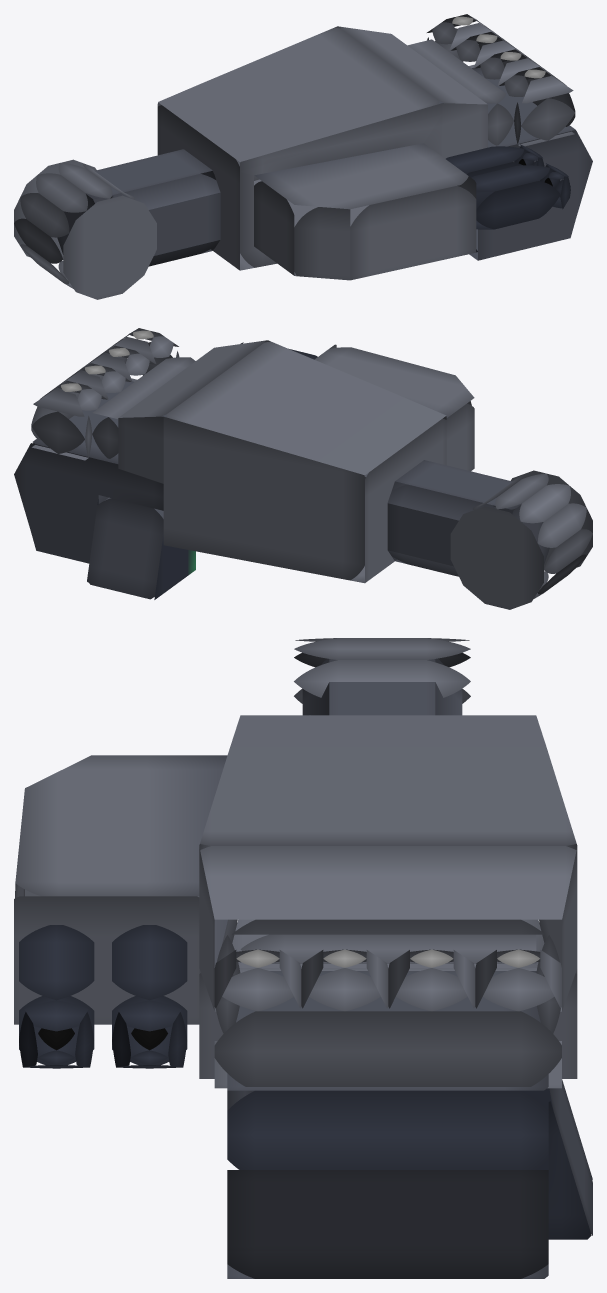
File: Charge Right Arm.obj
3 views of the same model, one above another, from view 1: azimuth 30°, elevation 25°; view 2: azimuth 150°, elevation 25°; view 3: azimuth 270°, elevation 25° (orthographic). The views are drawn at different scales.
Visible parts, largest first — view 1: Forearm, cylinder, cuboid, Arm; view 2: Forearm, cuboid, cylinder, Arm; view 3: Forearm, cuboid, cylinder, Arm.
Part boxes in pixels (x1=…): Forearm: x1=157, y1=14, x2=575, y2=280; cylinder: x1=14, y1=159, x2=156, y2=299; cuboid: x1=439, y1=67, x2=592, y2=260; Arm: x1=57, y1=149, x2=220, y2=266; Forearm: x1=31, y1=328, x2=474, y2=583; cuboid: x1=14, y1=342, x2=317, y2=599; cylinder: x1=450, y1=470, x2=592, y2=609; Arm: x1=387, y1=460, x2=549, y2=576; Forearm: x1=14, y1=715, x2=577, y2=1088; cuboid: x1=19, y1=925, x2=592, y2=1278; cylinder: x1=294, y1=638, x2=470, y2=703; Arm: x1=302, y1=658, x2=462, y2=715.
Size of the model in its own units: 0.75 by 0.2563 by 0.4081.
Materials: 1 (1 with a texture image).
